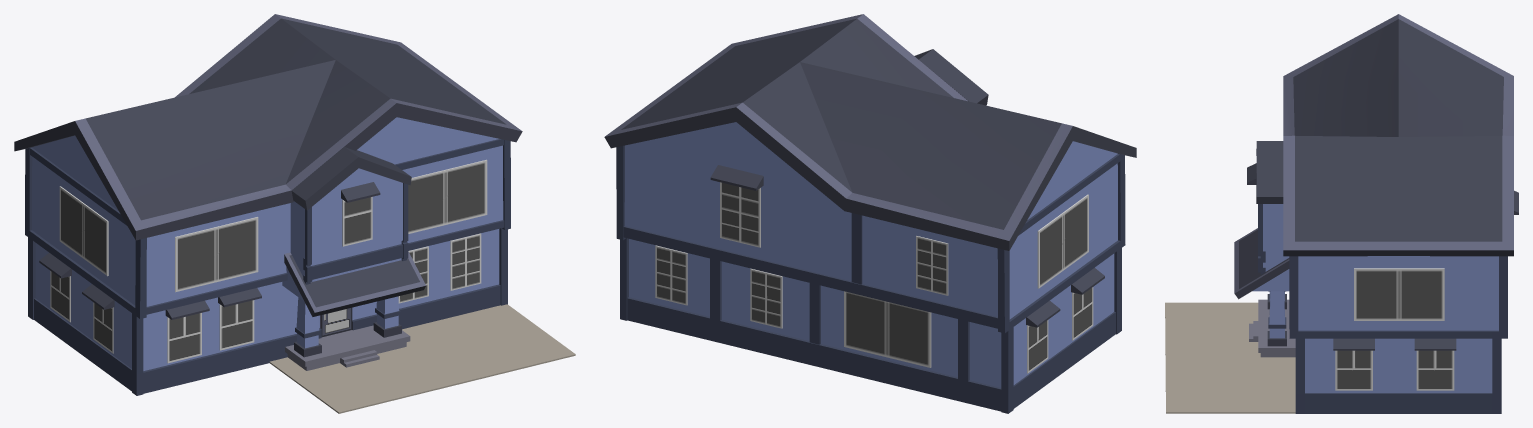
File: house04_color01.fbx
3 renders of one model, left to right at view 1: azimuth 30°, elevation 25°; view 2: azimuth 150°, elevation 25°; view 3: azimuth 270°, elevation 25°, orthographic. The views are drawn at different scales.
Parts seen in each view (by area): view 1: Cube.154, Cube.313; view 2: Cube.154; view 3: Cube.154, Cube.313.
Part boxes in pixels (x1,y1,x2,y2): Cube.154: (14, 14, 522, 395); Cube.313: (269, 304, 575, 413); Cube.154: (604, 14, 1136, 413); Cube.154: (1234, 14, 1518, 413); Cube.313: (1165, 302, 1295, 413).
Bounding box in the file's own units: 1569 × 917 × 1309.
